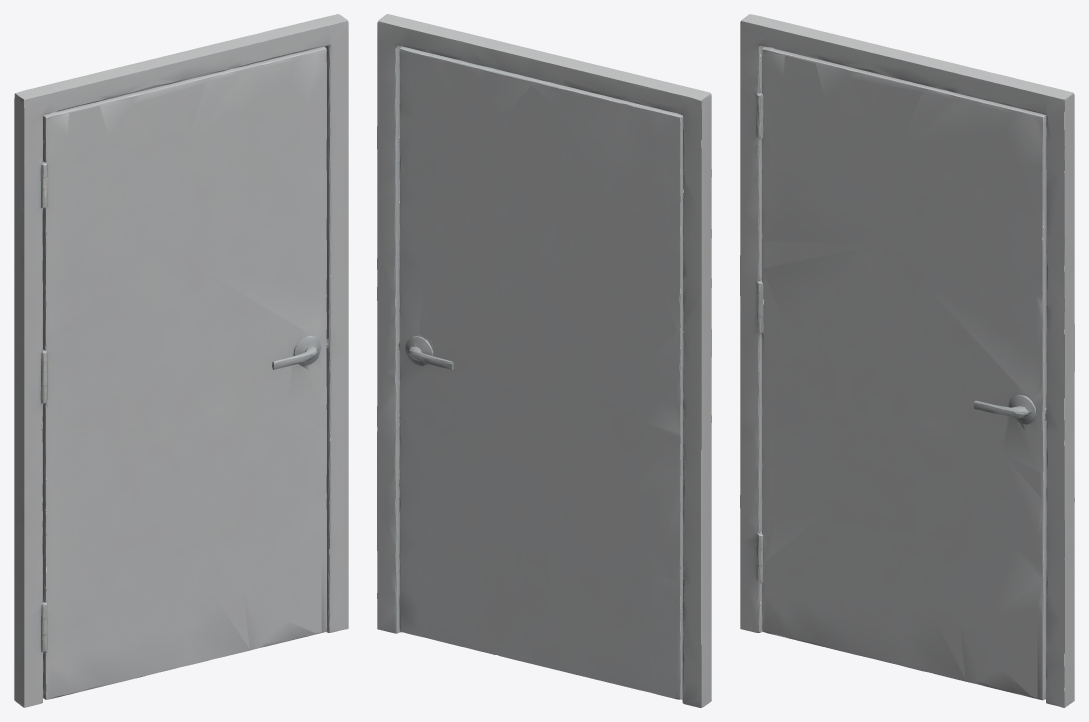
File: solid_door.glb
The picture shows the model from 3 angles, left to right: view 1: azimuth 30°, elevation 25°; view 2: azimuth 150°, elevation 25°; view 3: azimuth 330°, elevation 25°; orthographic projection.
Parts seen in each view (by area): view 1: Mesh; view 2: Mesh; view 3: Mesh.
Part boxes in pixels (x1,y1,x2,y2): Mesh: [14, 14, 348, 707]; Mesh: [377, 14, 711, 707]; Mesh: [740, 14, 1074, 707].
Bounding box in the file's own units: 1.06 × 1.9 × 0.1475.
1 material, 1 textured.
